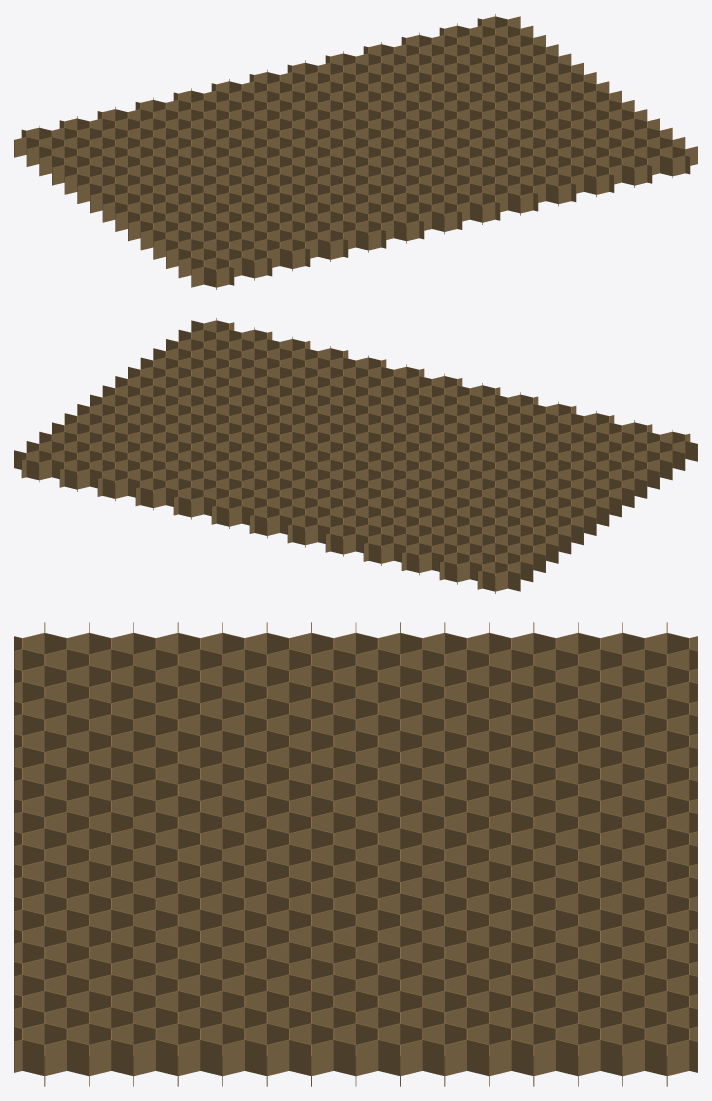
The model's file is paper.glb.
The picture shows the model from 3 angles, top to bottom: view 1: azimuth 30°, elevation 25°; view 2: azimuth 150°, elevation 25°; view 3: azimuth 270°, elevation 25°; orthographic projection. The views are drawn at different scales.
Visible parts, largest first — view 1: OpenHexCellWalls; view 2: OpenHexCellWalls; view 3: OpenHexCellWalls.
Boxes of the visible parts, bbox=[...] form: OpenHexCellWalls: bbox=[14, 14, 697, 289]; OpenHexCellWalls: bbox=[14, 318, 697, 593]; OpenHexCellWalls: bbox=[14, 622, 697, 1086].
Size of what is drawn, in the model's own units: 0.5995 by 0.02 by 0.3997.
